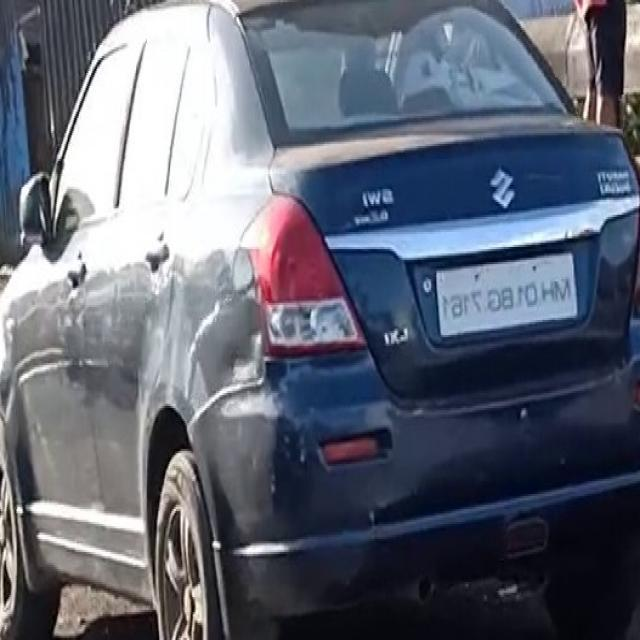license_plate: (431, 239, 581, 350)
